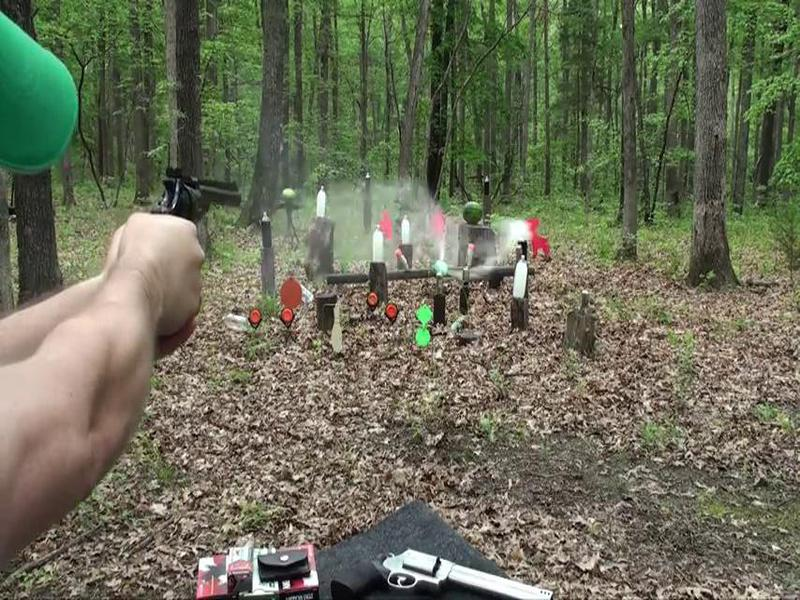Revolver: (136, 161, 256, 253)
